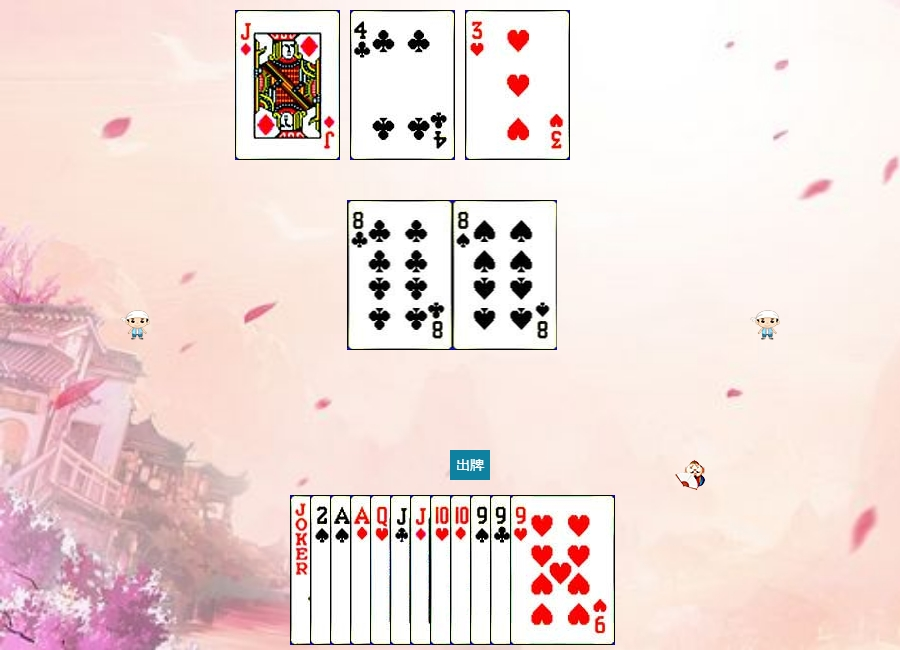10~1: (450, 495, 555, 645)
10~3: (430, 495, 535, 645)
11~1: (235, 10, 340, 160), (410, 495, 515, 645)
11~2: (390, 495, 495, 645)
12~3: (370, 495, 475, 645)
14~1: (350, 495, 455, 645)
14~4: (330, 495, 435, 645)
15~4: (310, 495, 415, 645)
18~4: (290, 495, 395, 645)
3~3: (465, 10, 570, 160)
4~2: (350, 10, 455, 160)
8~2: (348, 200, 453, 350)
8~4: (453, 200, 558, 350)
9~2: (490, 495, 595, 645)
9~3: (510, 495, 615, 645)
9~4: (470, 495, 575, 645)
